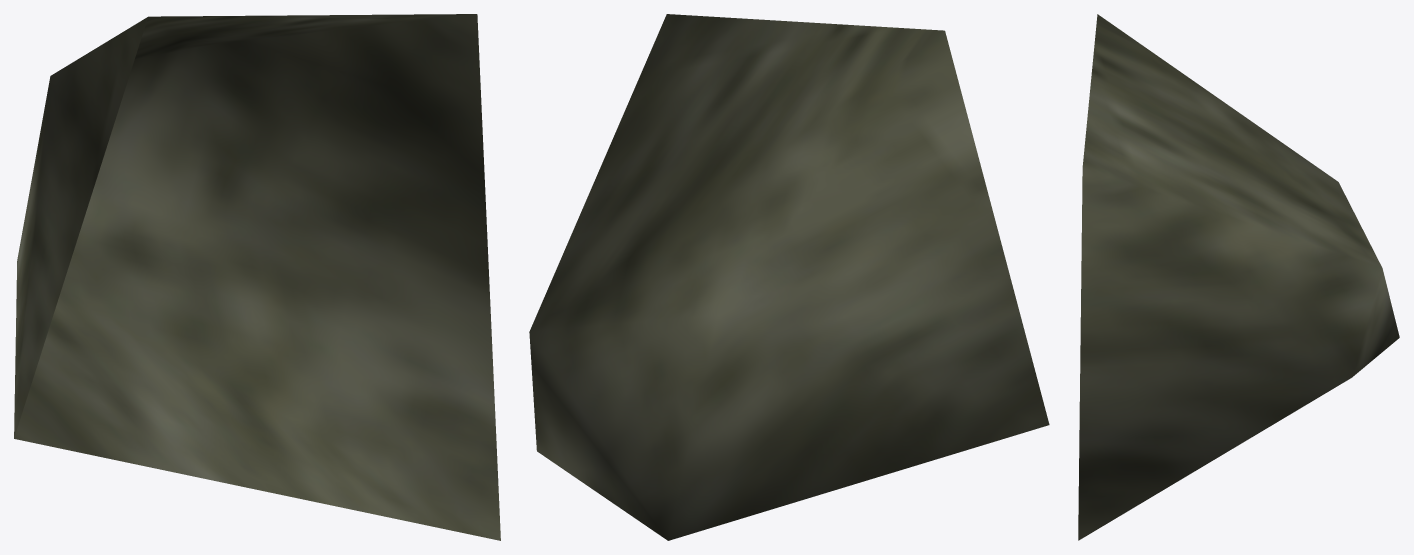
The model's file is TI_SmallStones_02.fbx.
The picture shows the model from 3 angles, left to right: view 1: azimuth 30°, elevation 25°; view 2: azimuth 150°, elevation 25°; view 3: azimuth 270°, elevation 25°; orthographic projection. The views are drawn at different scales.
Parts seen in each view (by area): view 1: TI_SmallStones_02; view 2: TI_SmallStones_02; view 3: TI_SmallStones_02.
Part boxes in pixels (x1,y1,x2,y2): TI_SmallStones_02: (14,14,500,540); TI_SmallStones_02: (529,14,1049,540); TI_SmallStones_02: (1078,14,1399,540).
Size of the model in its own units: 0.129 by 0.1587 by 0.1121.
Materials: 1 (1 with a texture image).
